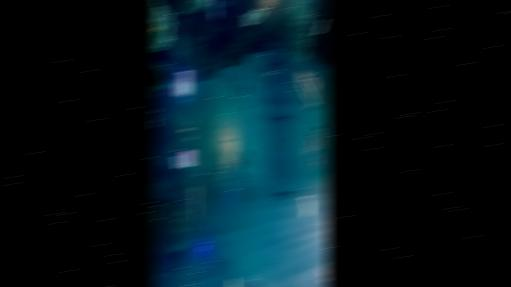Fish: (298, 70, 321, 109), (243, 8, 268, 25), (312, 125, 325, 150), (300, 195, 311, 216), (305, 134, 316, 154), (309, 151, 320, 169), (212, 1, 219, 20), (315, 22, 325, 34), (241, 84, 250, 97), (264, 68, 271, 84), (233, 78, 240, 93), (234, 169, 243, 180), (219, 0, 232, 7), (225, 175, 234, 185), (235, 159, 244, 169), (235, 78, 243, 88), (245, 62, 252, 73), (223, 69, 230, 80), (318, 268, 327, 276), (242, 151, 249, 160), (155, 273, 164, 280), (248, 66, 253, 78), (226, 85, 233, 93), (233, 85, 240, 93), (156, 114, 163, 122), (235, 62, 242, 69), (282, 184, 289, 190), (244, 105, 251, 111), (239, 62, 244, 70), (275, 116, 288, 119), (277, 192, 294, 194), (275, 179, 280, 183)
